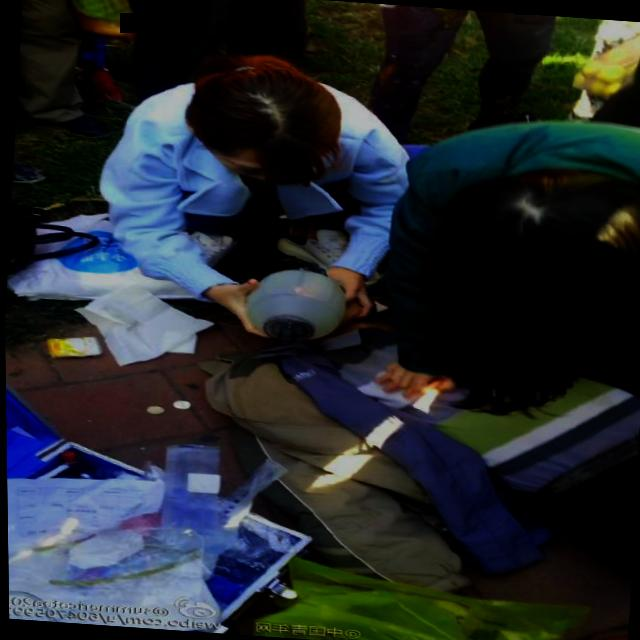Fall-Detected: (191, 219, 640, 637)
